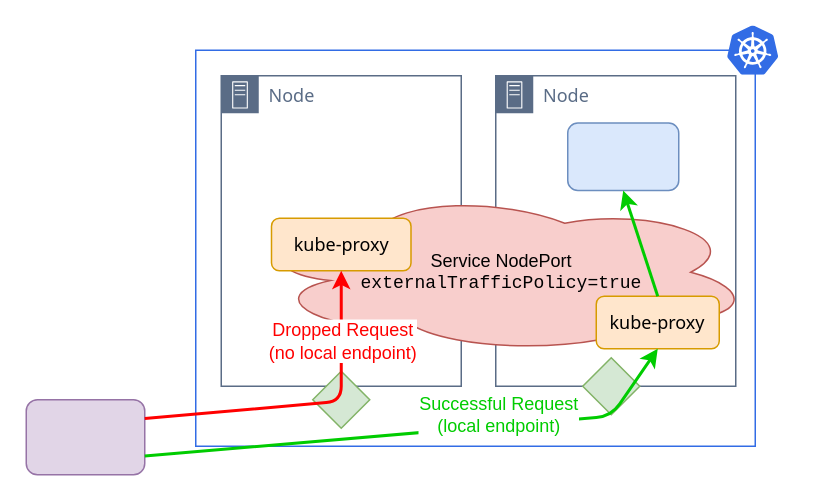
The diagram is 839 pixels wide and 501 high, and some of its shapes have lost their labels. The shapes that lost their labels are listed below. From the top down, each one's box as (x1, y1, x2, y2) in pixels, then its label:
(566, 122, 679, 190): Pod
(25, 398, 145, 475): Client
